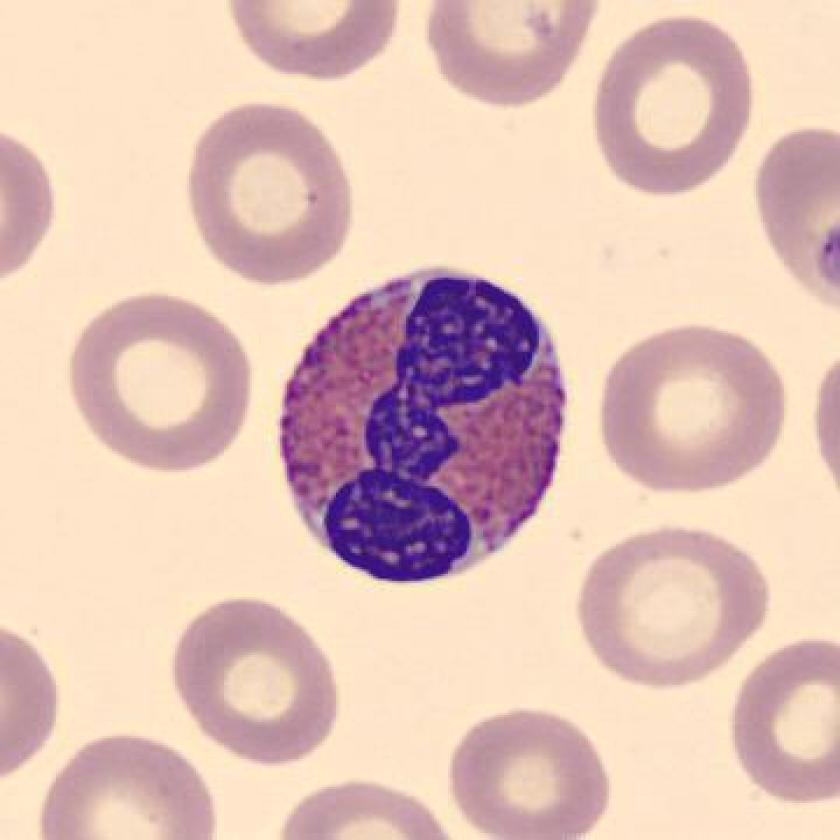eosinophil: (269, 256, 582, 594)
